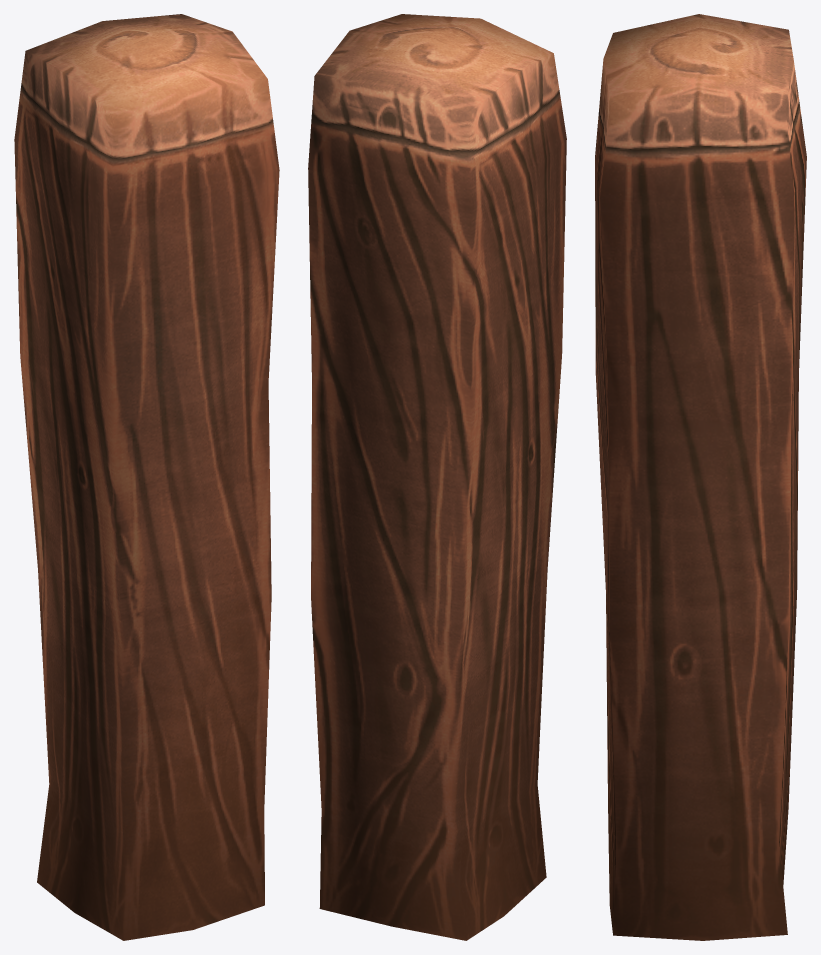
Rendered from fence_pillar2.obj.
The picture shows the model from 3 angles, left to right: view 1: azimuth 30°, elevation 25°; view 2: azimuth 150°, elevation 25°; view 3: azimuth 270°, elevation 25°; orthographic projection.
Parts seen in each view (by area): view 1: STPillar2_Cubo.016; view 2: STPillar2_Cubo.016; view 3: STPillar2_Cubo.016.
Part boxes in pixels (x1,y1,x2,y2): STPillar2_Cubo.016: (14, 14, 279, 940); STPillar2_Cubo.016: (308, 14, 566, 940); STPillar2_Cubo.016: (595, 14, 806, 940).
Size of the model in its own units: 0.212 by 0.9703 by 0.216.
